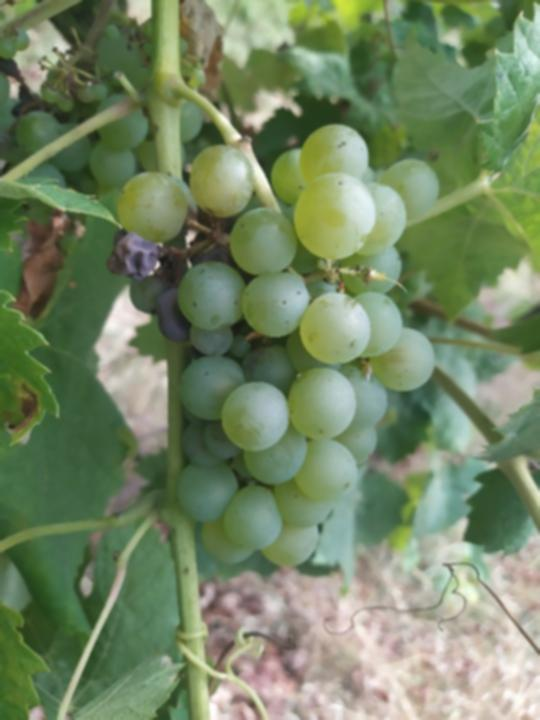grape: (113, 120, 442, 570)
